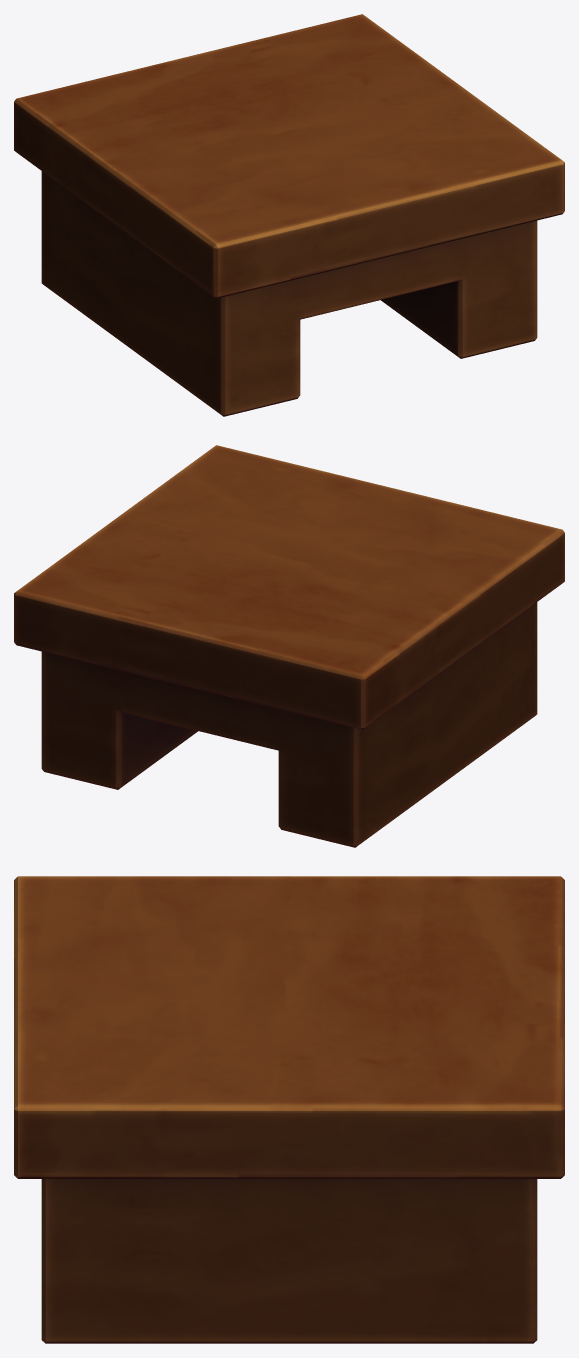
The model's file is baseTable.gltf.
3 renders of one model, top to bottom at view 1: azimuth 30°, elevation 25°; view 2: azimuth 150°, elevation 25°; view 3: azimuth 270°, elevation 25°, orthographic. The views are drawn at different scales.
Parts seen in each view (by area): view 1: 9; view 2: 9; view 3: 9.
Part boxes in pixels (bbox=[...]): 9: bbox=[14, 14, 564, 416]; 9: bbox=[14, 445, 564, 847]; 9: bbox=[14, 876, 564, 1343].
Size of the model in its own units: 2 by 1 by 2.
Materials: 1 (1 with a texture image).
